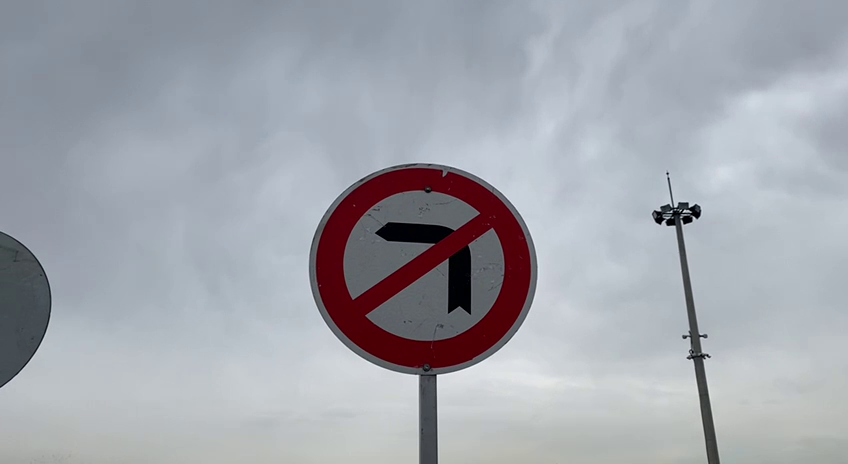noTurnLeft: (301, 160, 542, 383)
